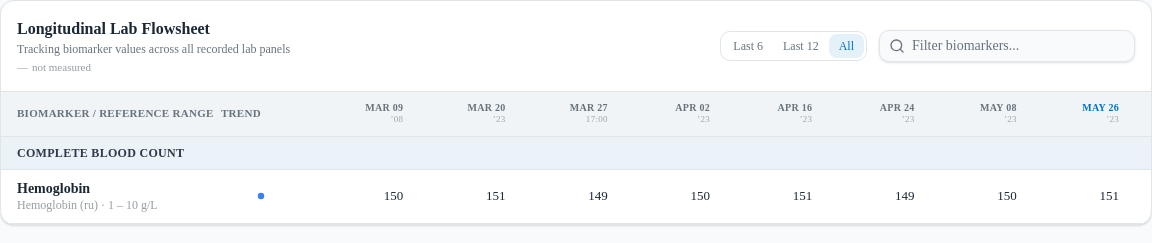
FlowsheetMatrix date-range presets › narrows the matrix to the last N panels and reports the count
Click the button "Last 6".
click(748, 46)  # box [723,34,773,58]
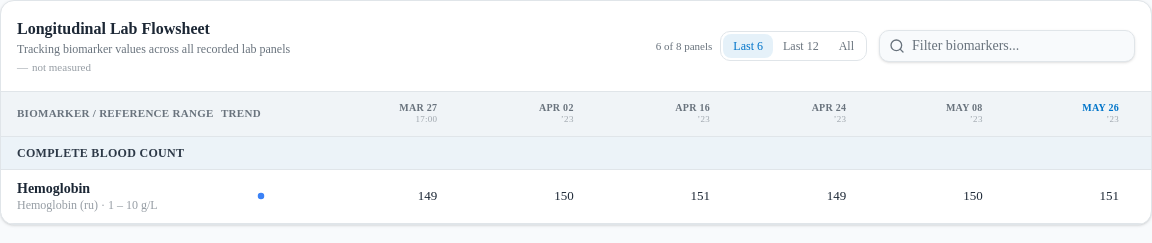
Result: the text "6 of 8 panels" is shown at [656,38,712,54]
Result: the text "Mar 09" is gone
Result: the 1st text "151" is shown at [690,188,710,203]
# Restoring "All" brings every column back.
Click the button "All".
click(846, 46)  # box [829,34,864,58]
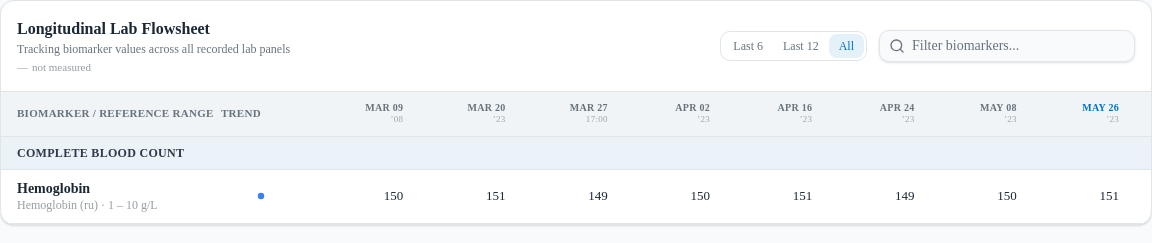
Result: the text "Mar 09" is shown at [365,102,403,114]
